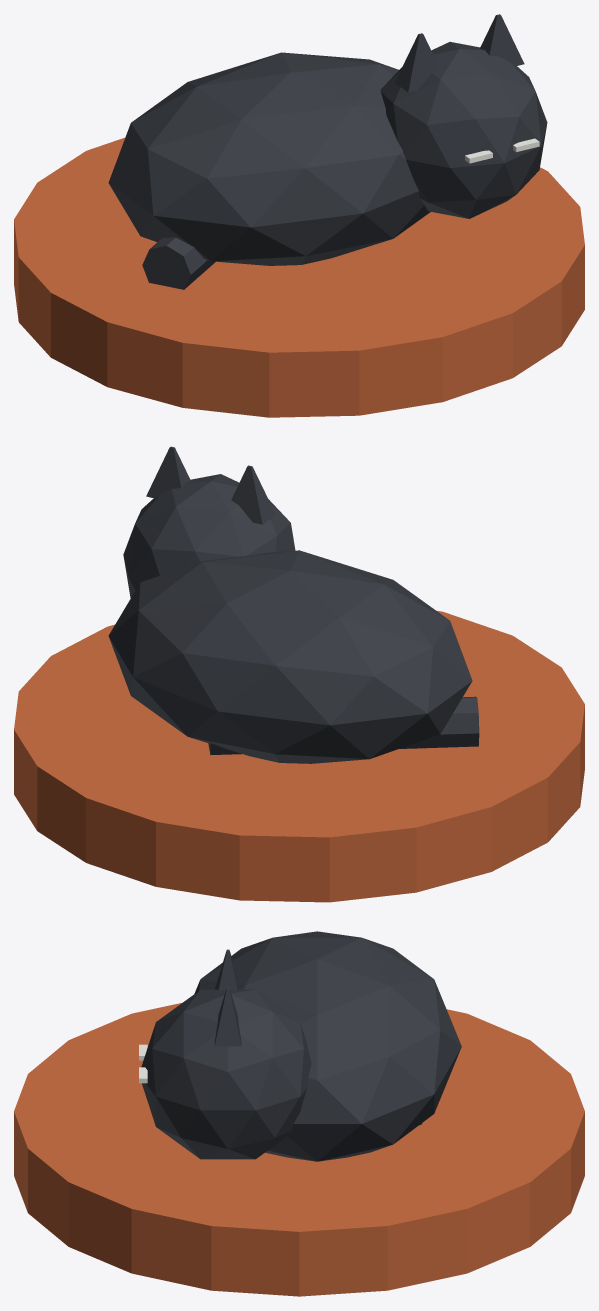
Rendered from cat.glb.
3 views of the same model, one above another, from view 1: azimuth 30°, elevation 25°; view 2: azimuth 150°, elevation 25°; view 3: azimuth 270°, elevation 25° (orthographic).
Visible parts, largest first — view 1: cat_mesh; view 2: cat_mesh; view 3: cat_mesh.
Boxes of the visible parts, x1,y1,x2,y2 form: cat_mesh: [14, 14, 584, 417]; cat_mesh: [14, 446, 584, 902]; cat_mesh: [14, 931, 584, 1296].
Bounding box in the file's own units: 0.64 × 0.33 × 0.64.
